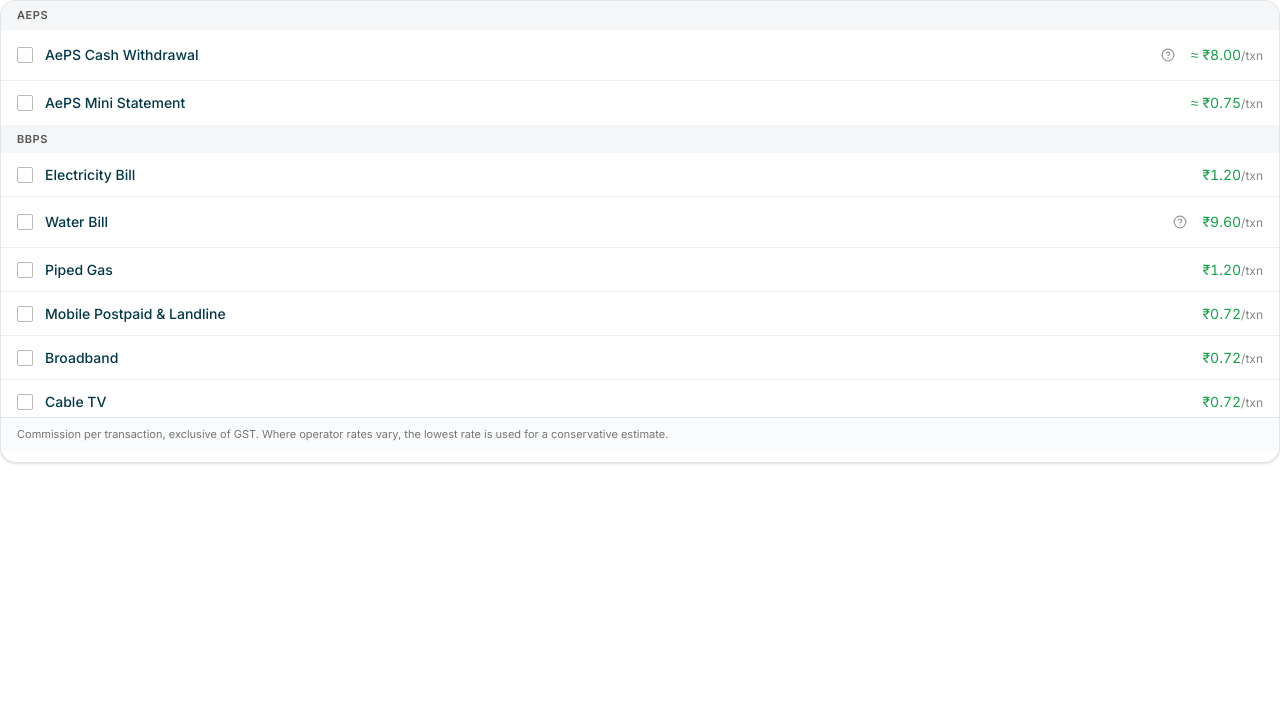
Test: PaymentsPicker rate explainer › names the average amount the preview rate was computed at
What coordinates should you click on to do the following:
click the button named "How the Water Bill rate is calculated"
I would click on:
 (1180, 222)
Its box is left=1164, top=207, right=1194, bottom=237.
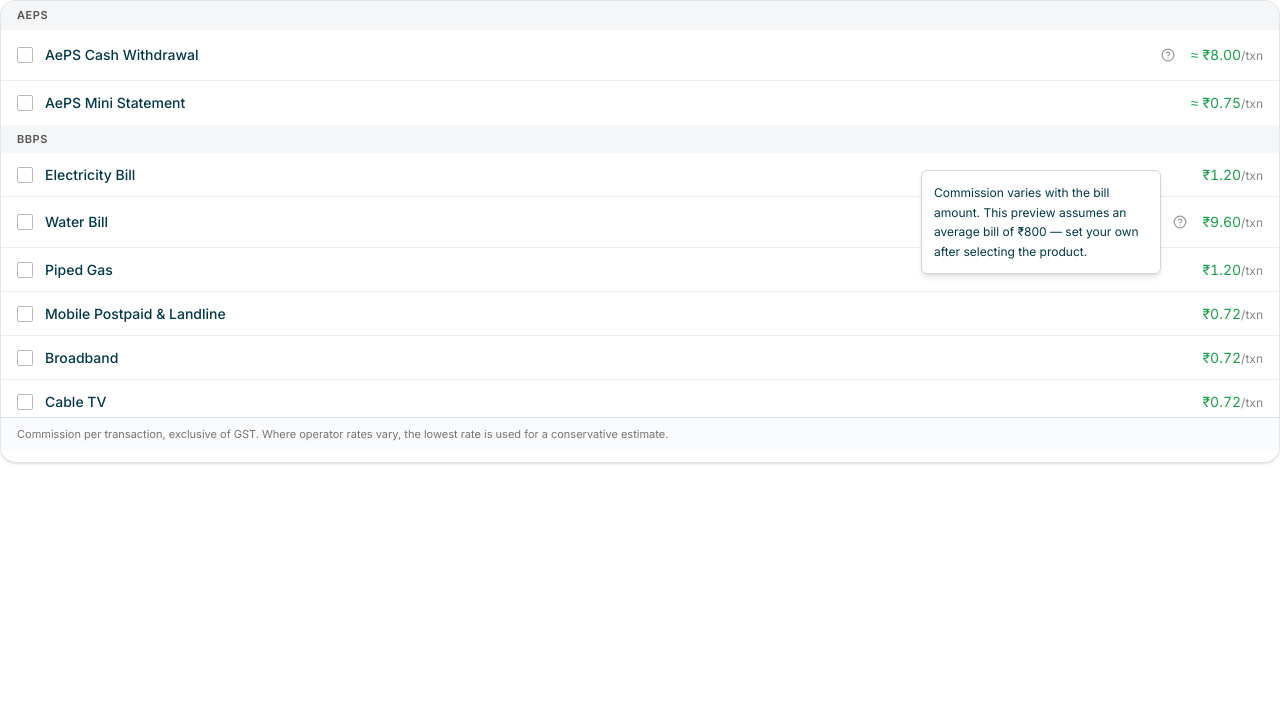
Now the text "average bill of ₹800" is shown, box left=921, top=170, right=1161, bottom=274
